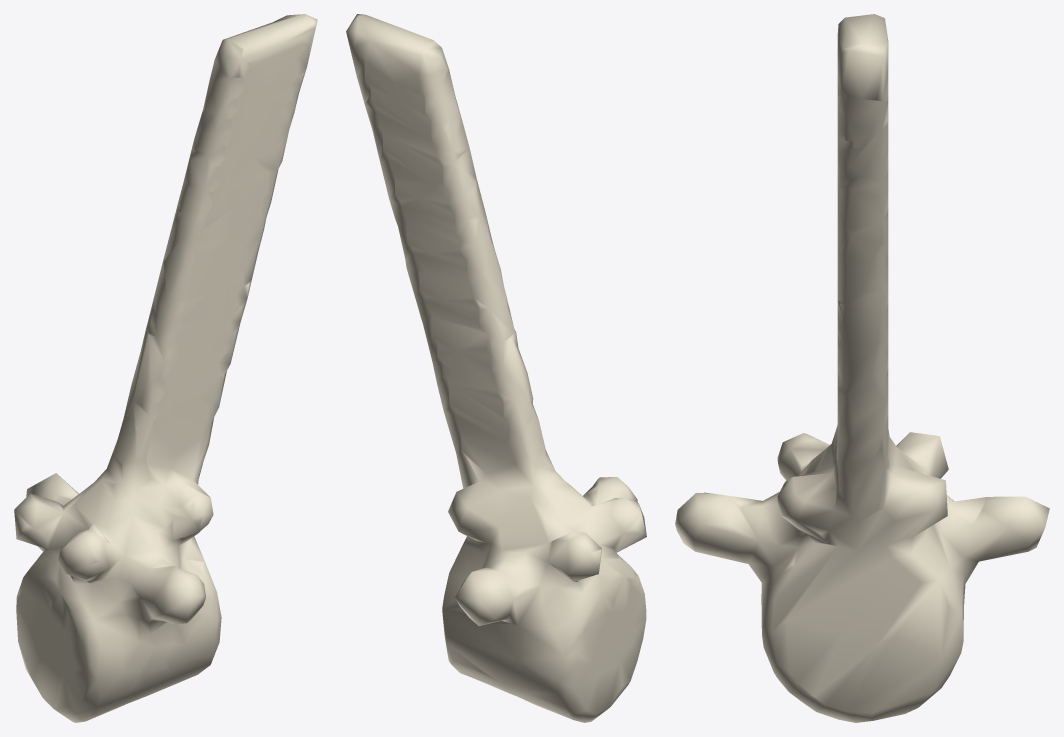
The model's file is thoracic_2.glb.
3 views of the same model, side by side, from view 1: azimuth 30°, elevation 25°; view 2: azimuth 150°, elevation 25°; view 3: azimuth 270°, elevation 25° (orthographic). The views are drawn at different scales.
Parts seen in each view (by area): view 1: geometry_0; view 2: geometry_0; view 3: geometry_0.
Part boxes in pixels (x1,y1,x2,y2): geometry_0: (14, 14, 317, 722); geometry_0: (346, 14, 646, 722); geometry_0: (675, 14, 1049, 722).
Size of the model in its own units: 0.1807 by 0.4069 by 0.1778.
